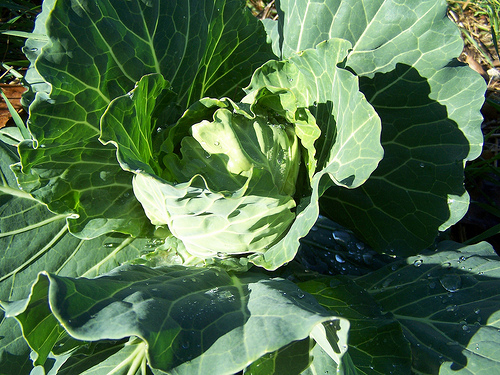cabbage: (93, 36, 390, 276)
